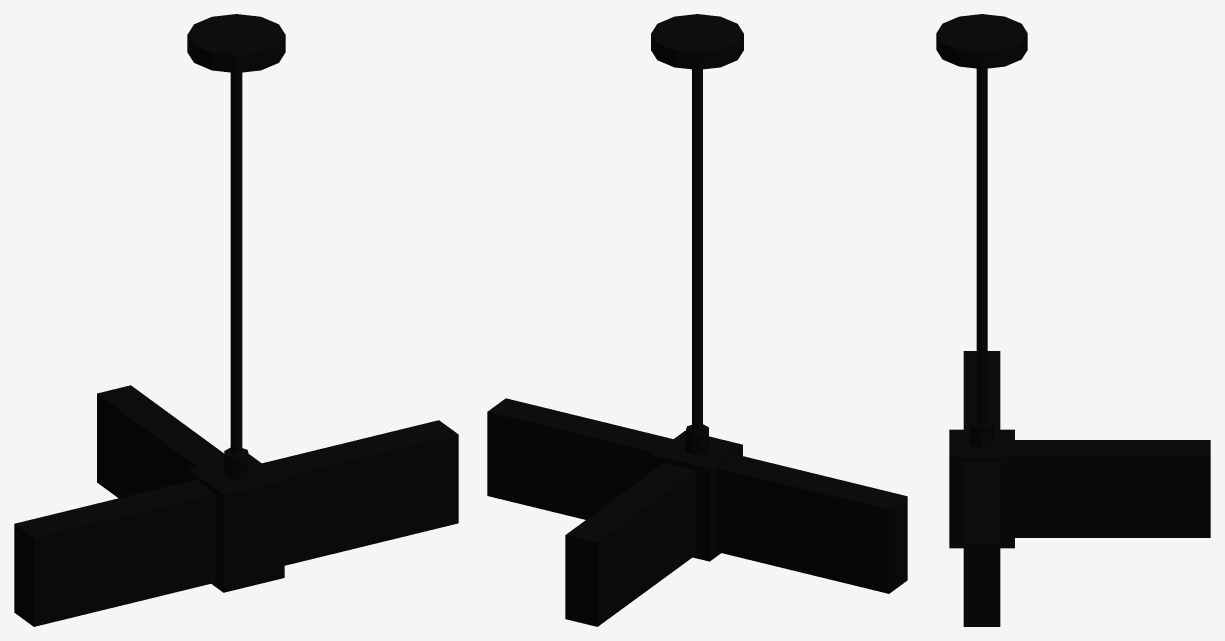
The model's file is SM_Build_Lichtschiene_T.fbx.
3 renders of one model, left to right at view 1: azimuth 30°, elevation 25°; view 2: azimuth 150°, elevation 25°; view 3: azimuth 270°, elevation 25°, orthographic. The views are drawn at different scales.
Parts seen in each view (by area): view 1: Lichtschiene_T; view 2: Lichtschiene_T; view 3: Lichtschiene_T.
Part boxes in pixels (<box>): Lichtschiene_T: <box>14,14,458,626</box>; Lichtschiene_T: <box>487,14,907,626</box>; Lichtschiene_T: <box>936,14,1210,626</box>.
Bounding box in the file's own units: 0.5 × 0.605 × 0.3.
